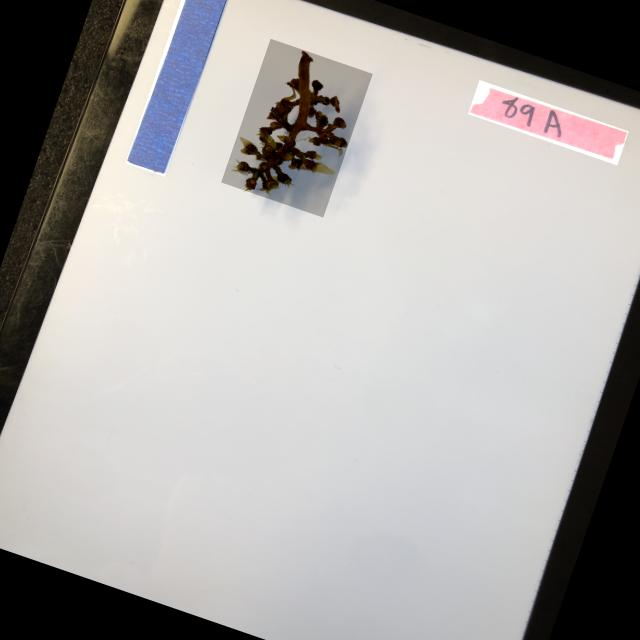index: (467, 80, 628, 165)
measure_label: (125, 0, 229, 176)
rachis_cluster: (220, 39, 372, 218)
